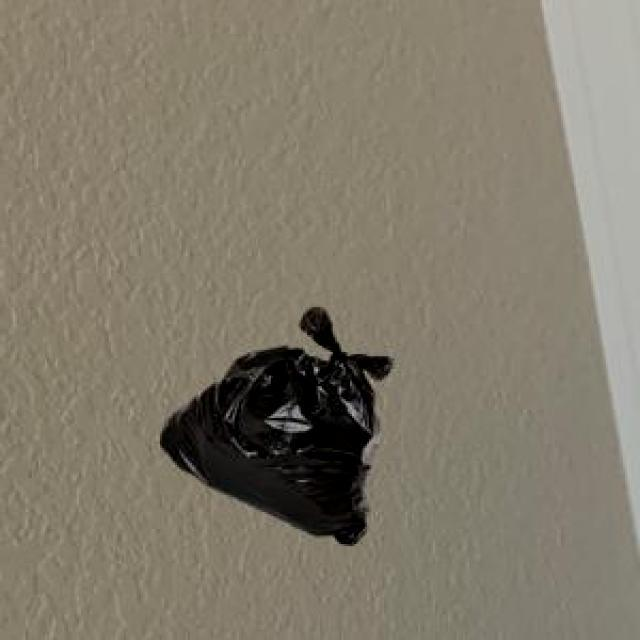Trashbag: (155, 299, 402, 551)
